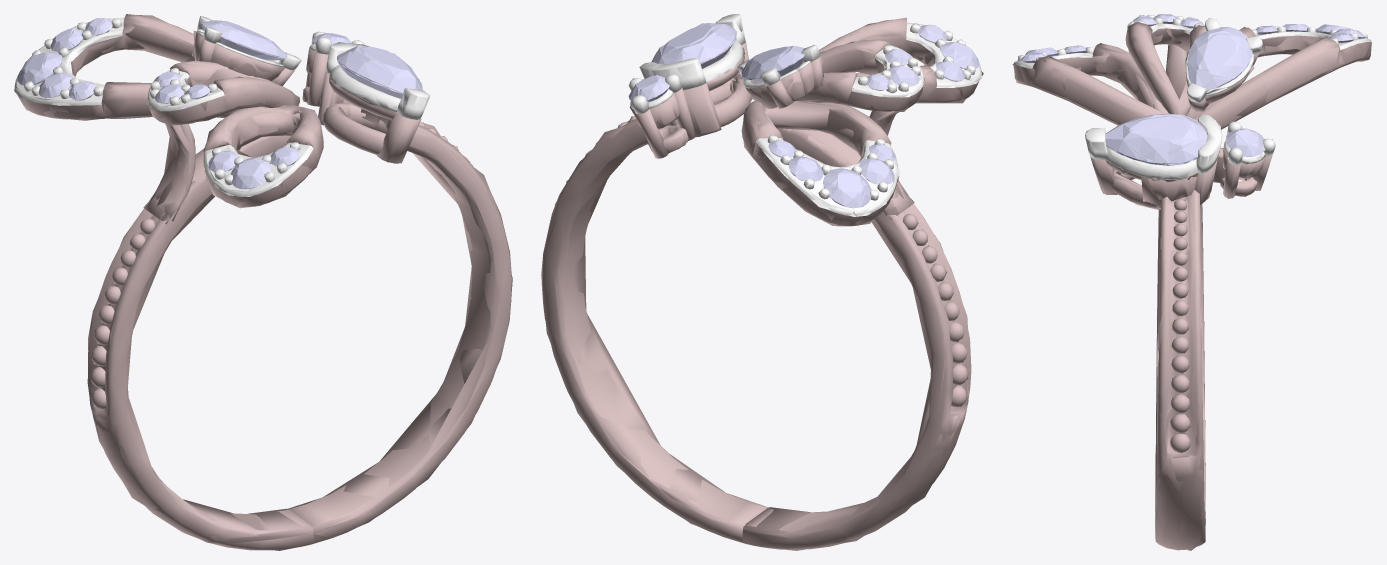
Rendered from DLR-D000683129.glb.
3 views of the same model, side by side, from view 1: azimuth 30°, elevation 25°; view 2: azimuth 150°, elevation 25°; view 3: azimuth 270°, elevation 25° (orthographic). The views are drawn at different scales.
Visible parts, largest first — view 1: highPolyMesh, lowPolyMesh; view 2: highPolyMesh, lowPolyMesh; view 3: highPolyMesh, lowPolyMesh.
Part boxes in pixels (bbox=[...]): highPolyMesh: bbox=[15, 14, 512, 550]; lowPolyMesh: bbox=[14, 15, 512, 550]; highPolyMesh: bbox=[541, 14, 981, 549]; lowPolyMesh: bbox=[541, 14, 983, 550]; highPolyMesh: bbox=[1013, 14, 1371, 550]; lowPolyMesh: bbox=[1012, 14, 1372, 550].
Size of the model in its own units: 0.0197 by 0.0235 by 0.0161.
